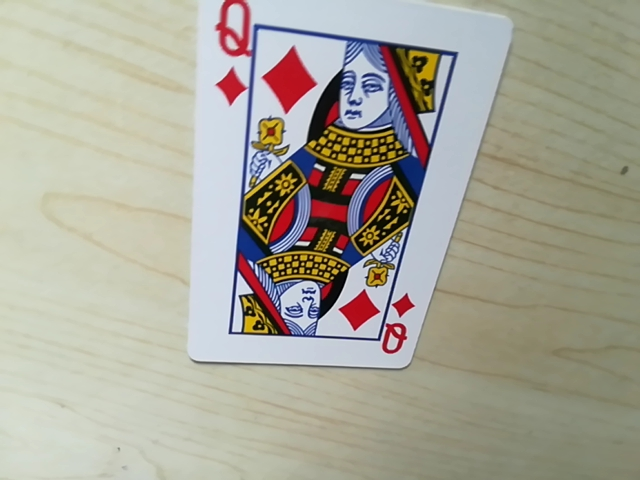fk q: (204, 0, 269, 107), (374, 315, 419, 358)
